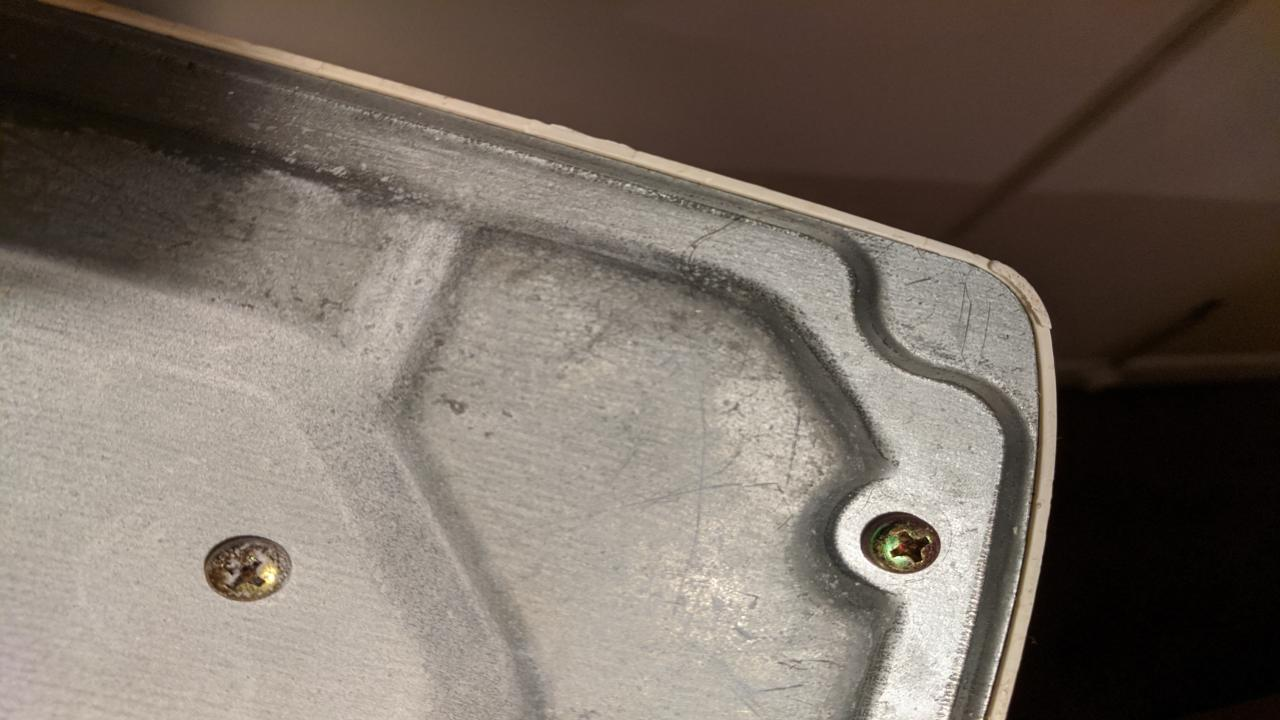CRS: (205, 540, 292, 604), (867, 514, 944, 575)
